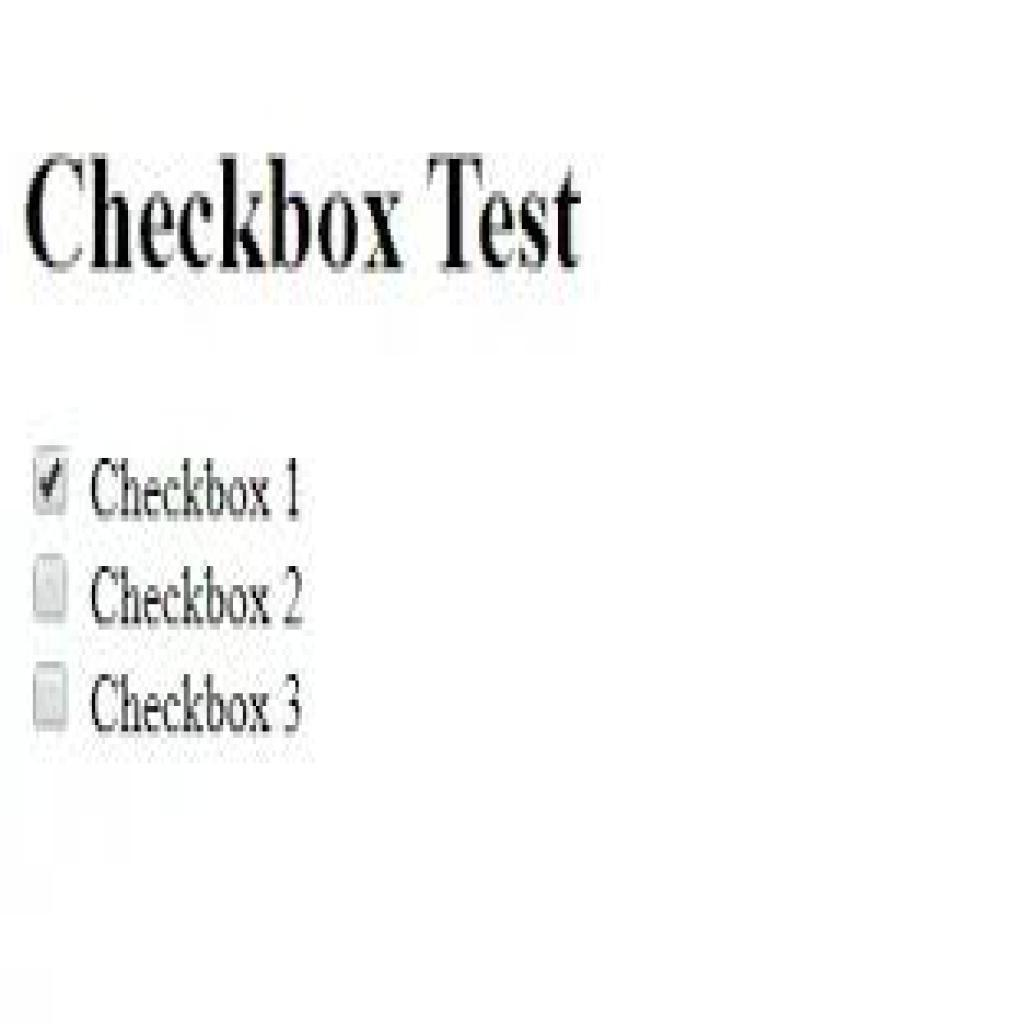checkbox: (31, 442, 74, 523), (33, 662, 74, 727), (34, 557, 72, 621)
